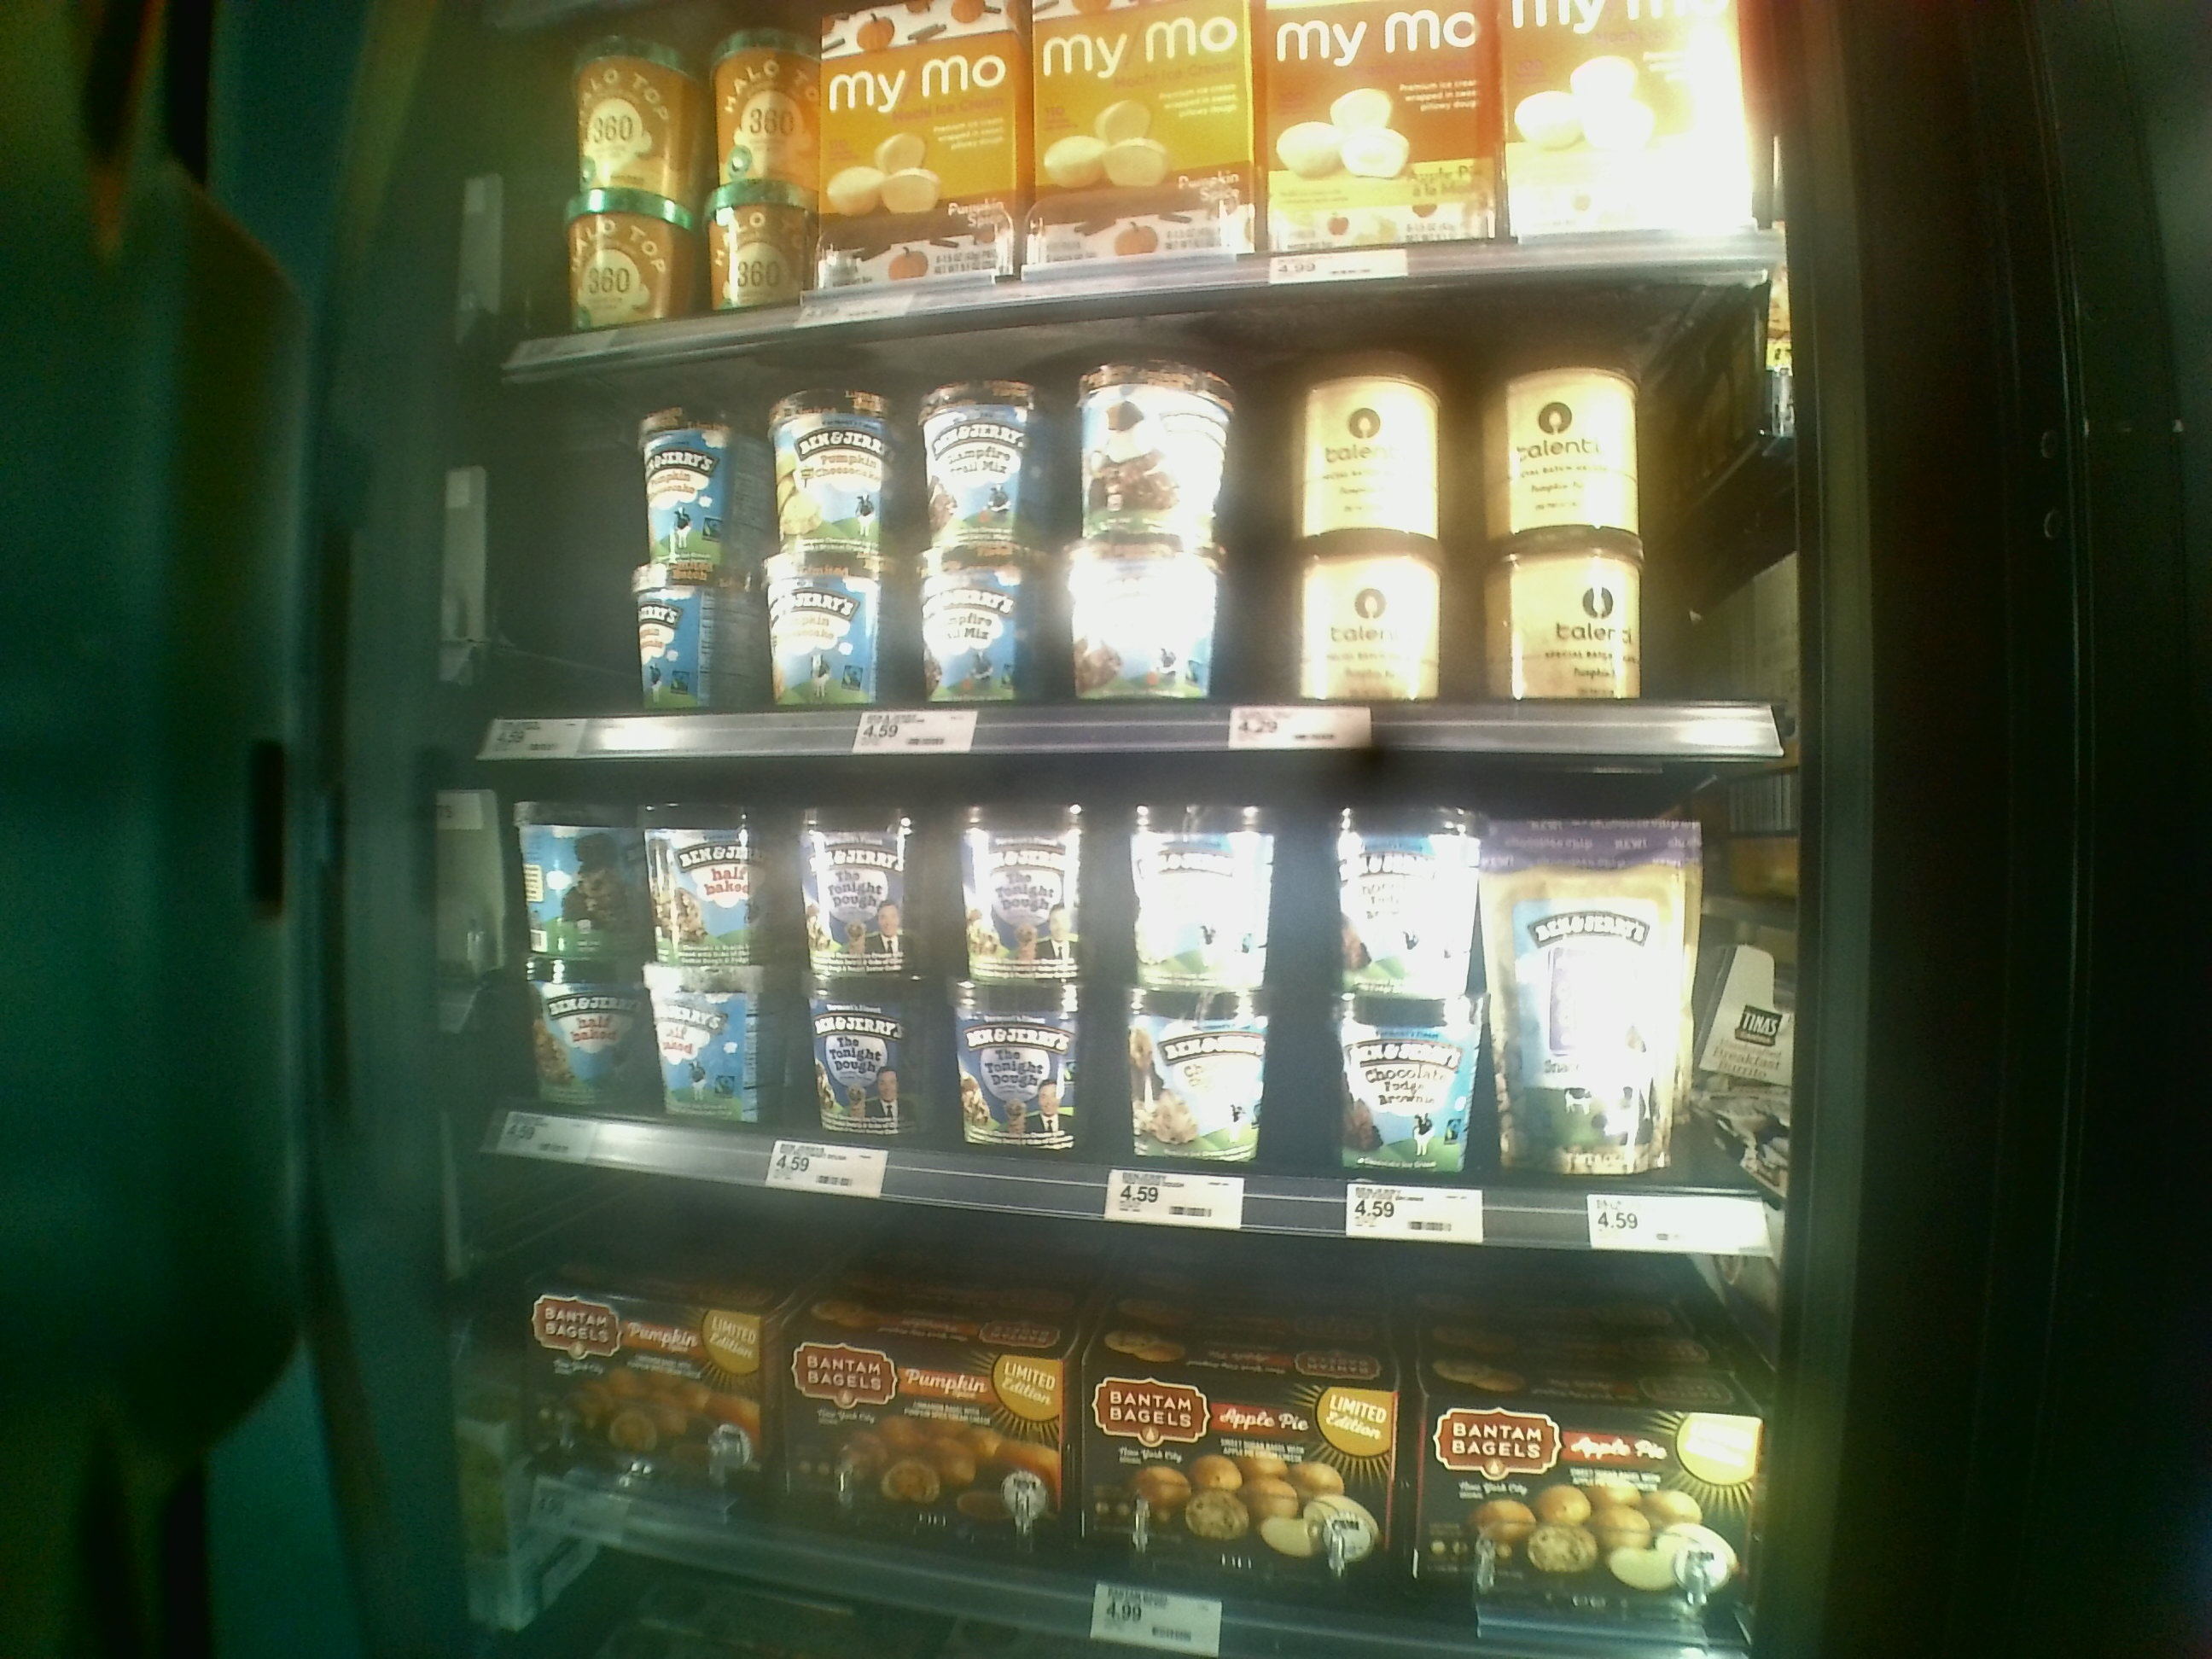shelf: (444, 748, 1797, 1256), (455, 295, 1804, 765)
